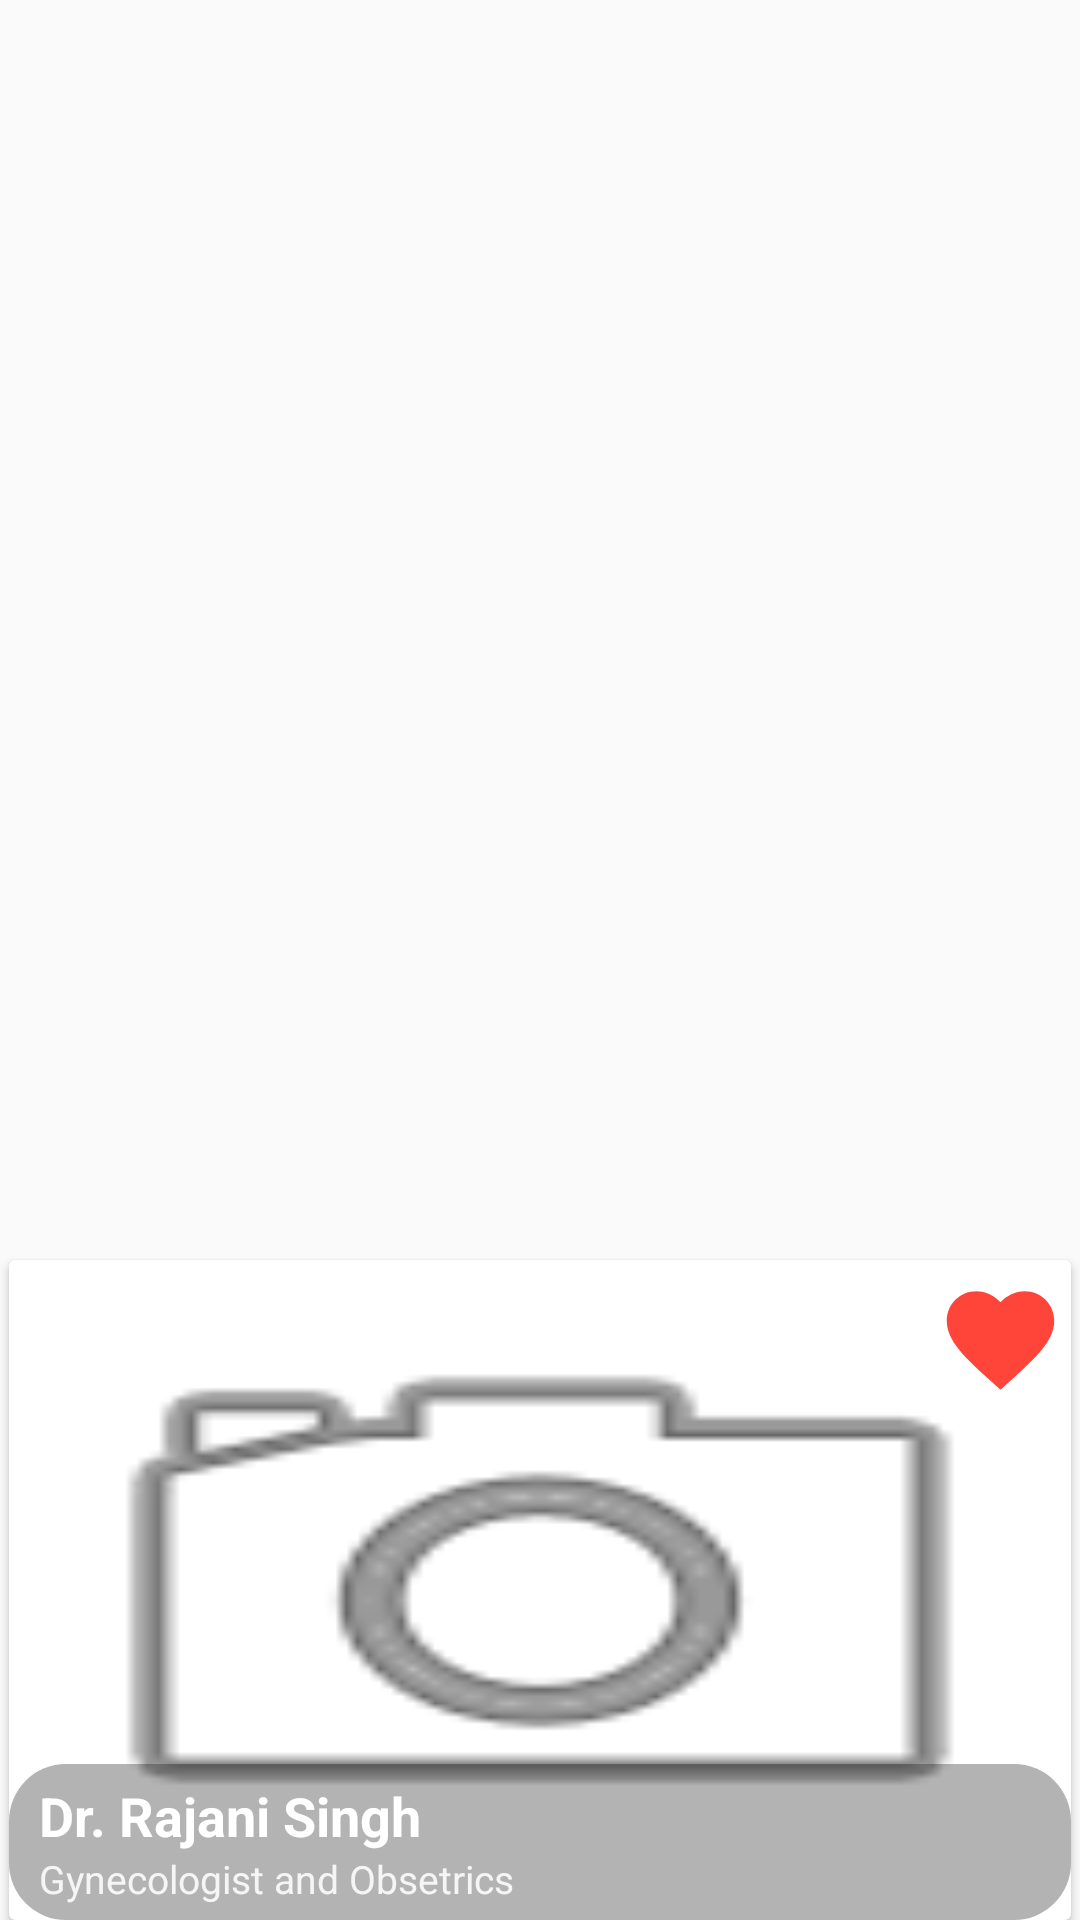

Where to tap for icons on this 1080 × 1920 app screen, as (x=x, y=y):
like: (x=1000, y=1340)
